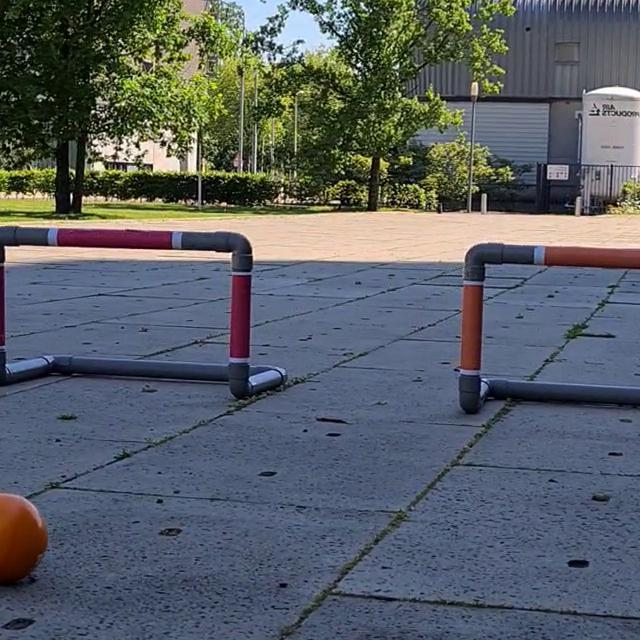ball: (0, 488, 51, 592)
